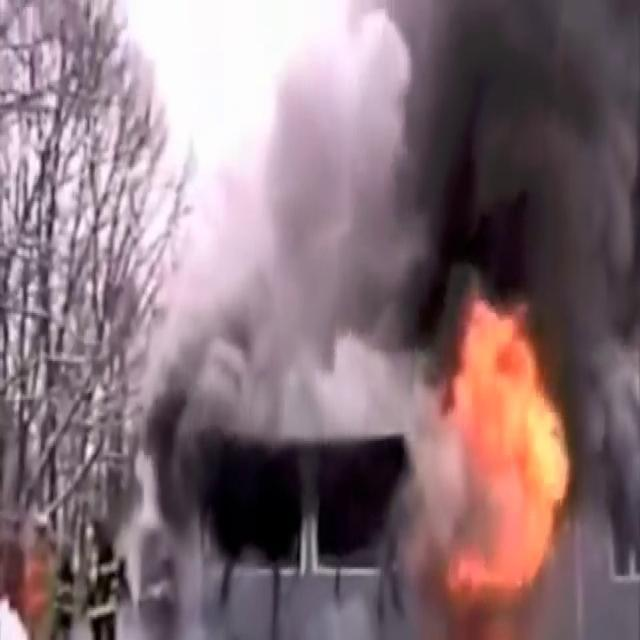Fire: (429, 284, 574, 608)
Smoke: (151, 0, 425, 533), (412, 0, 638, 302)
